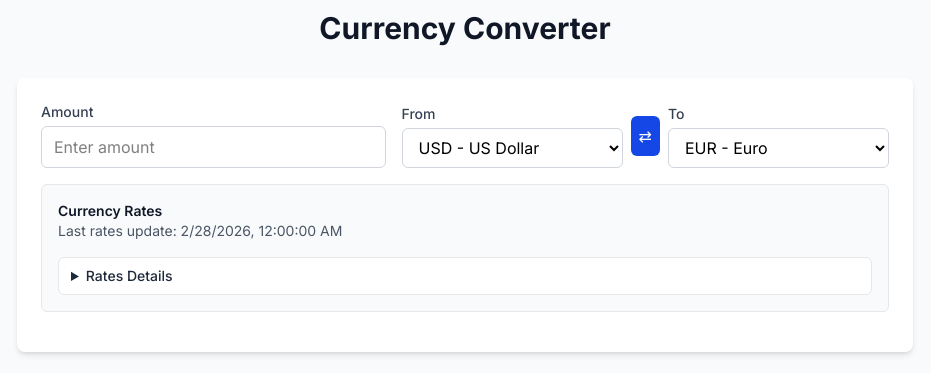
Scenario: CurrencyConverter currency selection behavior › swaps currencies when selecting To equal to current From
Check: the dropdown labelled "From" shows "USD - US Dollar", box [402,128,623,168]
Select "USD - US Dollar" in the dropdown labelled "To": (778, 148) [668,128,889,168]
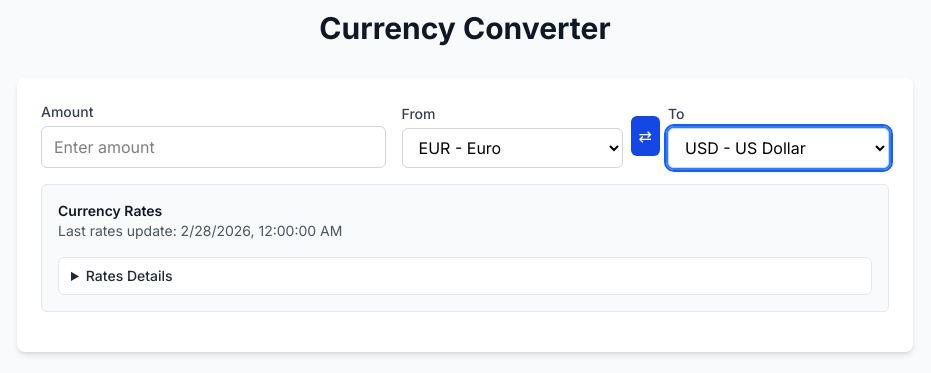
Check: the dropdown labelled "From" shows "EUR - Euro", box [402,128,623,168]
